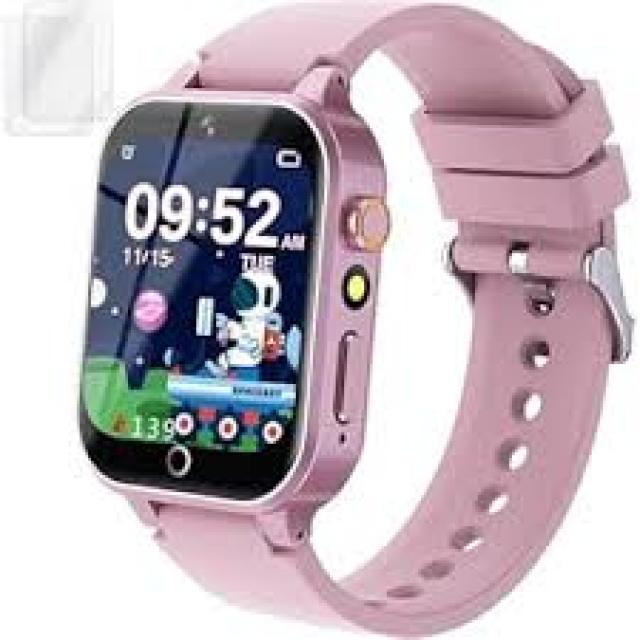objects: (80, 3, 631, 631)
